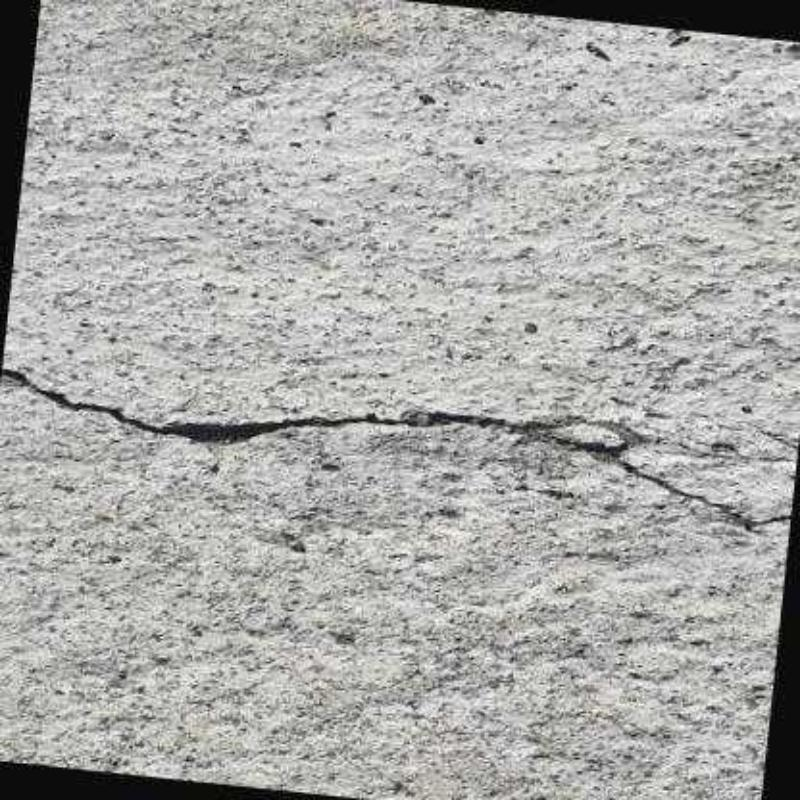pothole: (0, 369, 790, 528), (515, 415, 798, 465)
